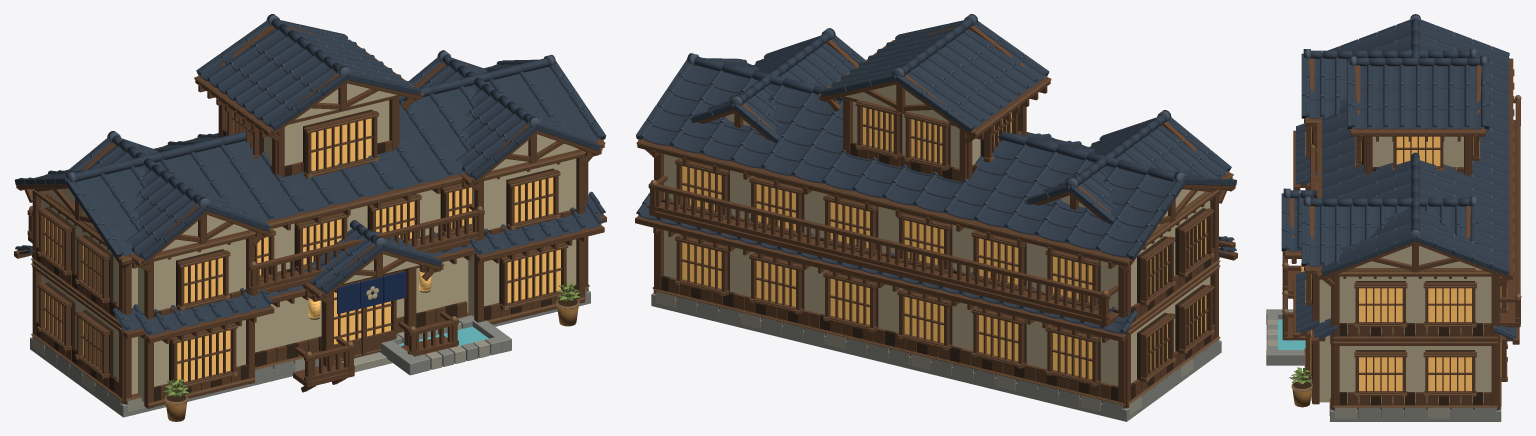
The picture shows the model from 3 angles, left to right: view 1: azimuth 30°, elevation 25°; view 2: azimuth 150°, elevation 25°; view 3: azimuth 270°, elevation 25°; orthographic projection. The views are drawn at different scales.
Visible parts, largest first — view 1: compact_onsen_3_geometry; view 2: compact_onsen_3_geometry; view 3: compact_onsen_3_geometry.
Part boxes in pixels (bbox=[...]): compact_onsen_3_geometry: bbox=[14, 14, 606, 421]; compact_onsen_3_geometry: bbox=[635, 14, 1237, 421]; compact_onsen_3_geometry: bbox=[1266, 14, 1521, 421].
Size of the model in its own units: 2.07 by 1.17 by 1.02.
